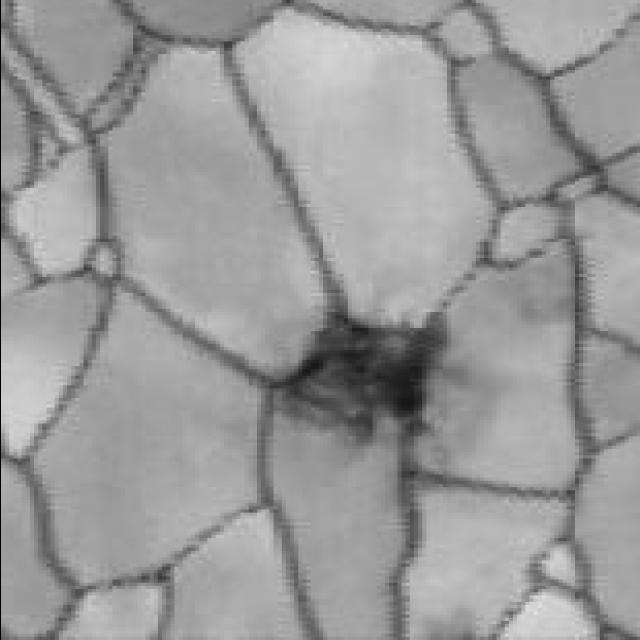good_void: (266, 294, 455, 440)
